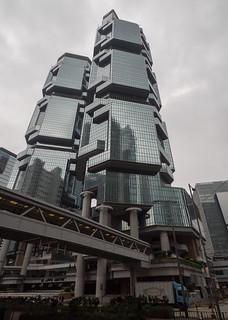building: (12, 8, 210, 316)
